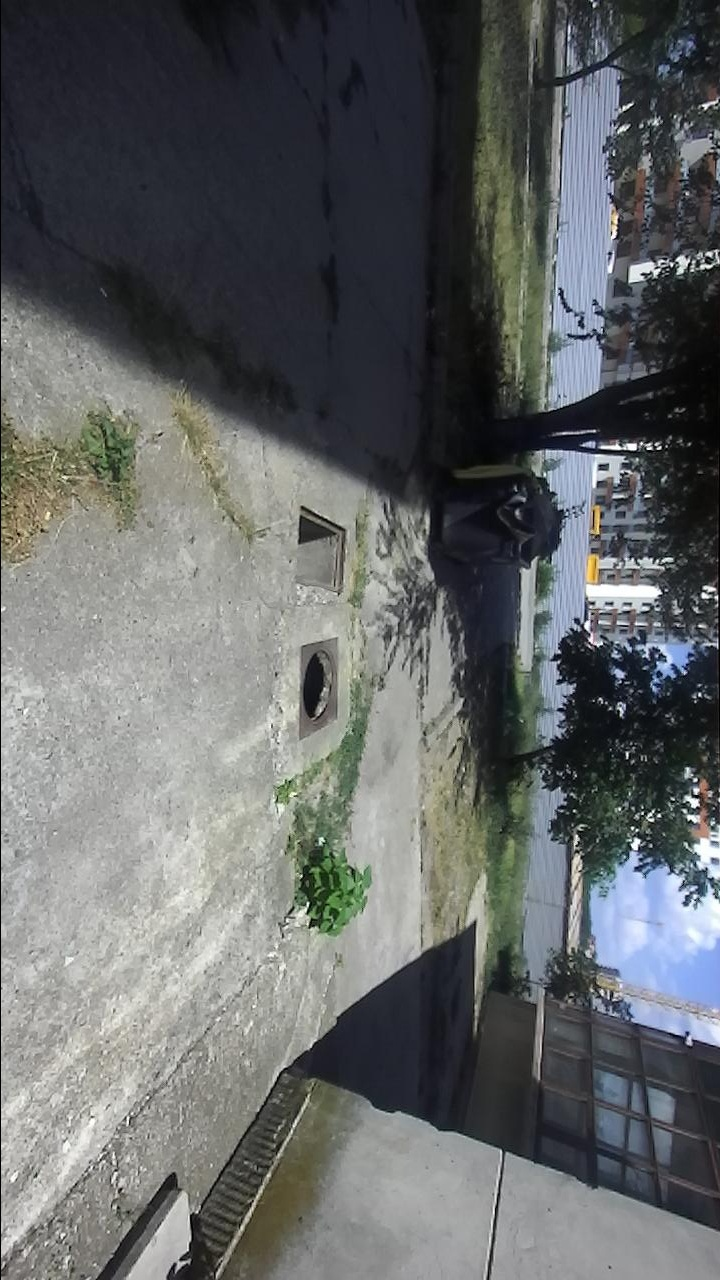drain: (297, 503, 346, 595), (298, 642, 338, 727)
